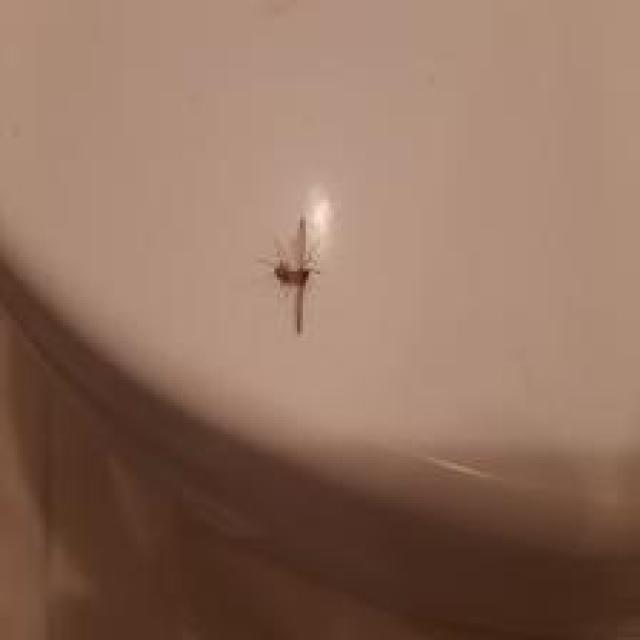Culex: (259, 214, 324, 334)
